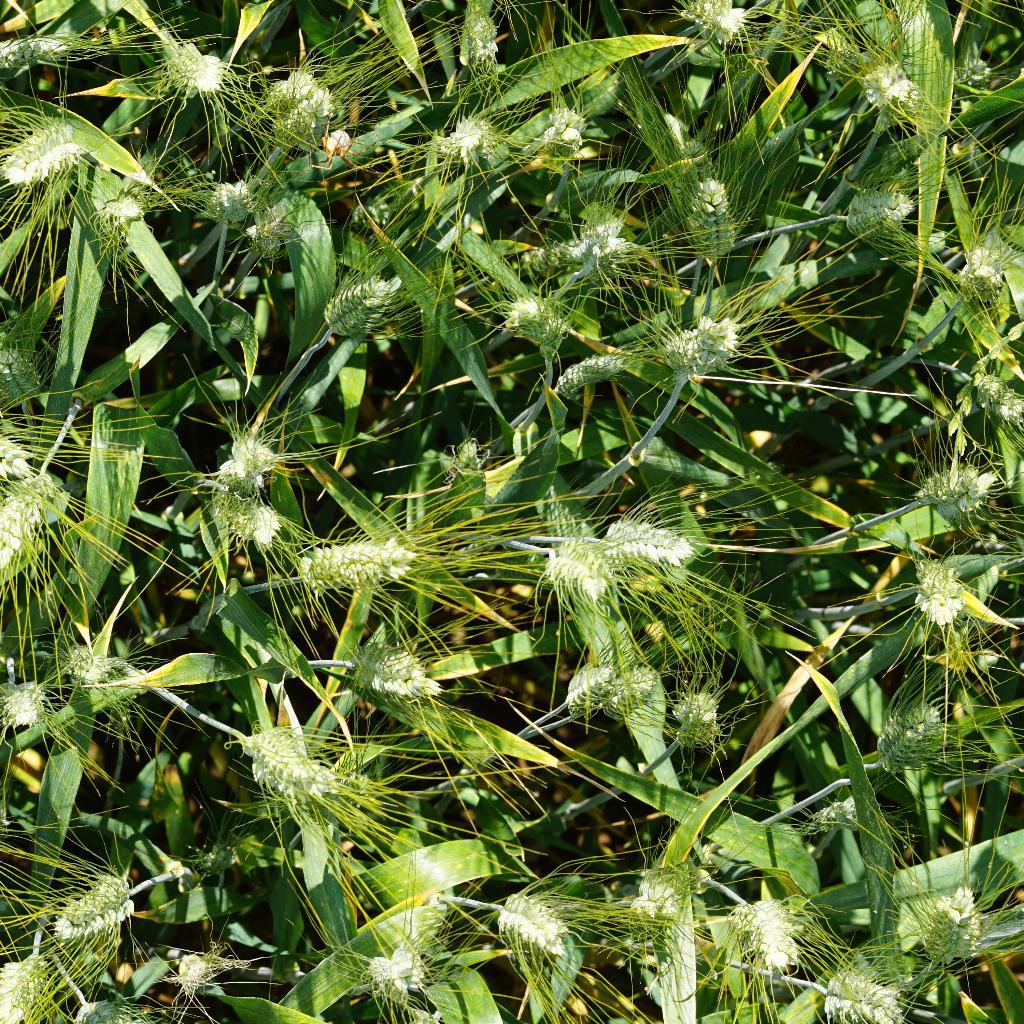0-0: (232, 722, 348, 807), (716, 878, 803, 986), (284, 522, 411, 595), (907, 873, 996, 974), (348, 630, 445, 716), (0, 474, 75, 585), (40, 860, 144, 938), (615, 844, 706, 933), (872, 687, 956, 783), (344, 930, 445, 1009), (490, 884, 575, 976), (591, 503, 709, 568), (914, 452, 1009, 531), (316, 261, 400, 350), (788, 778, 881, 855), (548, 200, 636, 279), (0, 112, 90, 189), (586, 645, 664, 733), (651, 305, 737, 381), (428, 105, 511, 182), (528, 537, 618, 608), (808, 967, 919, 1024), (684, 168, 748, 266), (833, 172, 935, 230), (200, 422, 286, 490), (954, 232, 1024, 315), (494, 224, 595, 281), (264, 83, 346, 152), (452, 0, 518, 83), (302, 759, 376, 833), (479, 543, 575, 599), (907, 549, 971, 632), (157, 37, 238, 101), (0, 17, 90, 73), (503, 286, 576, 355), (547, 347, 638, 402), (0, 920, 48, 1024), (959, 361, 1024, 436), (851, 52, 929, 114), (673, 124, 719, 228), (668, 686, 729, 761), (58, 632, 127, 697), (215, 490, 286, 550), (265, 60, 330, 124), (548, 657, 616, 716), (667, 0, 756, 45), (239, 206, 316, 257), (534, 98, 598, 159), (484, 544, 567, 588), (167, 948, 227, 1006), (437, 428, 490, 493), (200, 169, 260, 223), (0, 675, 47, 742), (92, 186, 153, 235), (187, 831, 239, 885), (0, 340, 44, 400), (955, 49, 1001, 101), (351, 187, 393, 239), (0, 425, 32, 487), (819, 37, 866, 78)
